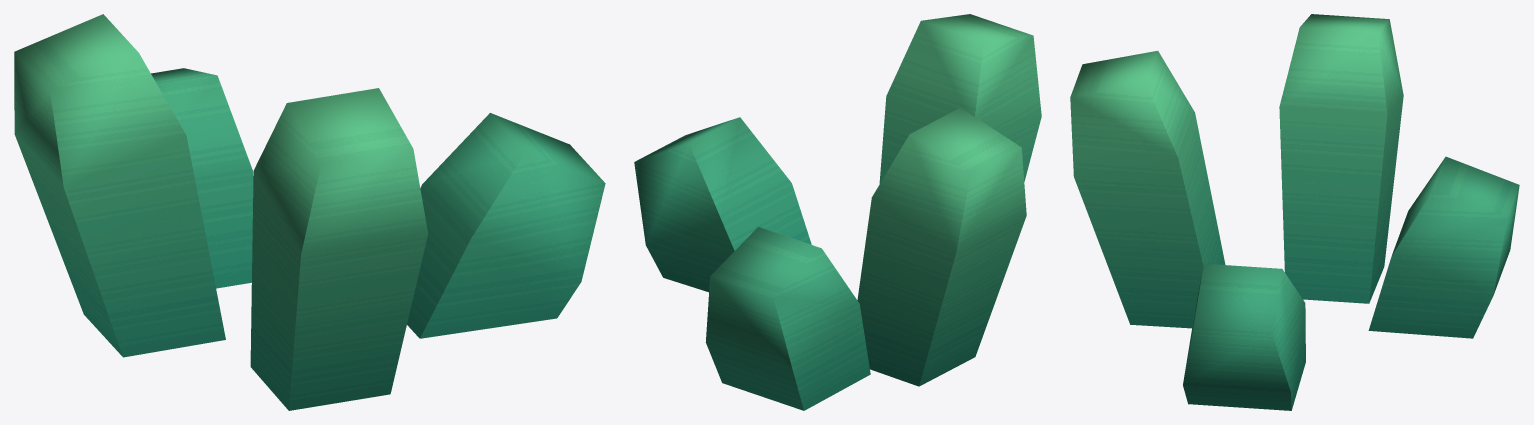
File: grass.009_lev2.glb
3 renders of one model, left to right at view 1: azimuth 30°, elevation 25°; view 2: azimuth 150°, elevation 25°; view 3: azimuth 270°, elevation 25°, orthographic. The views are drawn at different scales.
Visible parts, largest first — view 1: grass.009_lev2; view 2: grass.009_lev2; view 3: grass.009_lev2.
Part boxes in pixels (x1,y1,x2,y2): grass.009_lev2: (14, 14, 605, 410); grass.009_lev2: (634, 14, 1041, 410); grass.009_lev2: (1070, 14, 1519, 410).
Size of the model in its own units: 0.5429 by 0.3139 by 0.532.
1 material, 1 textured.
